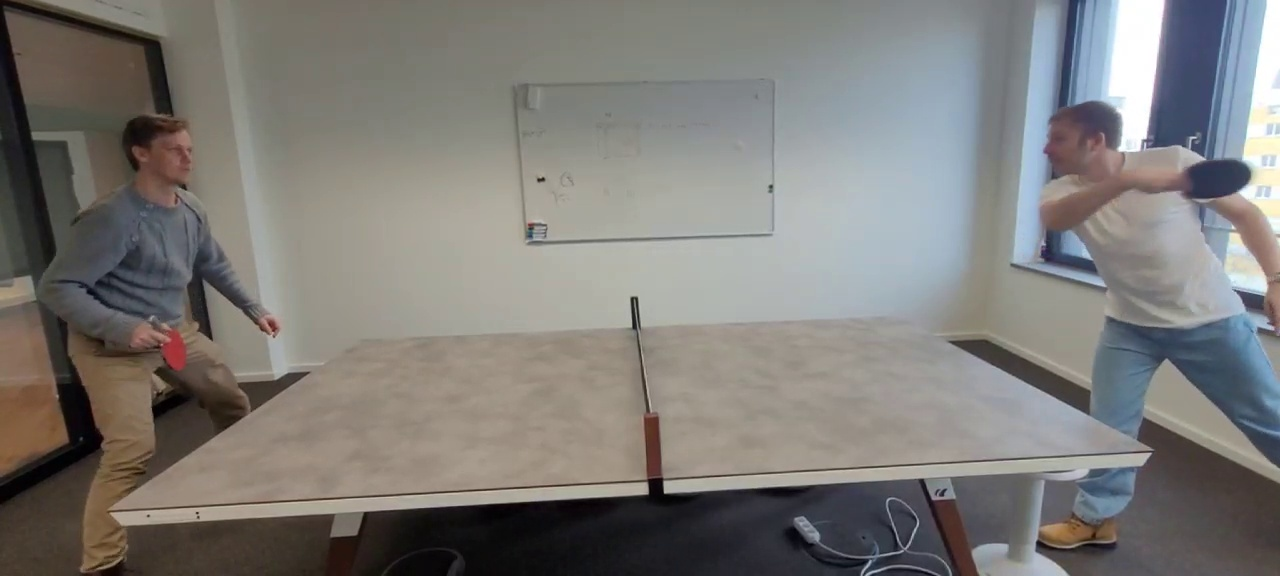1: (1183, 158, 1250, 198), (147, 315, 185, 371)
2: (733, 139, 744, 151)
ttplatte: (107, 314, 1152, 510)
